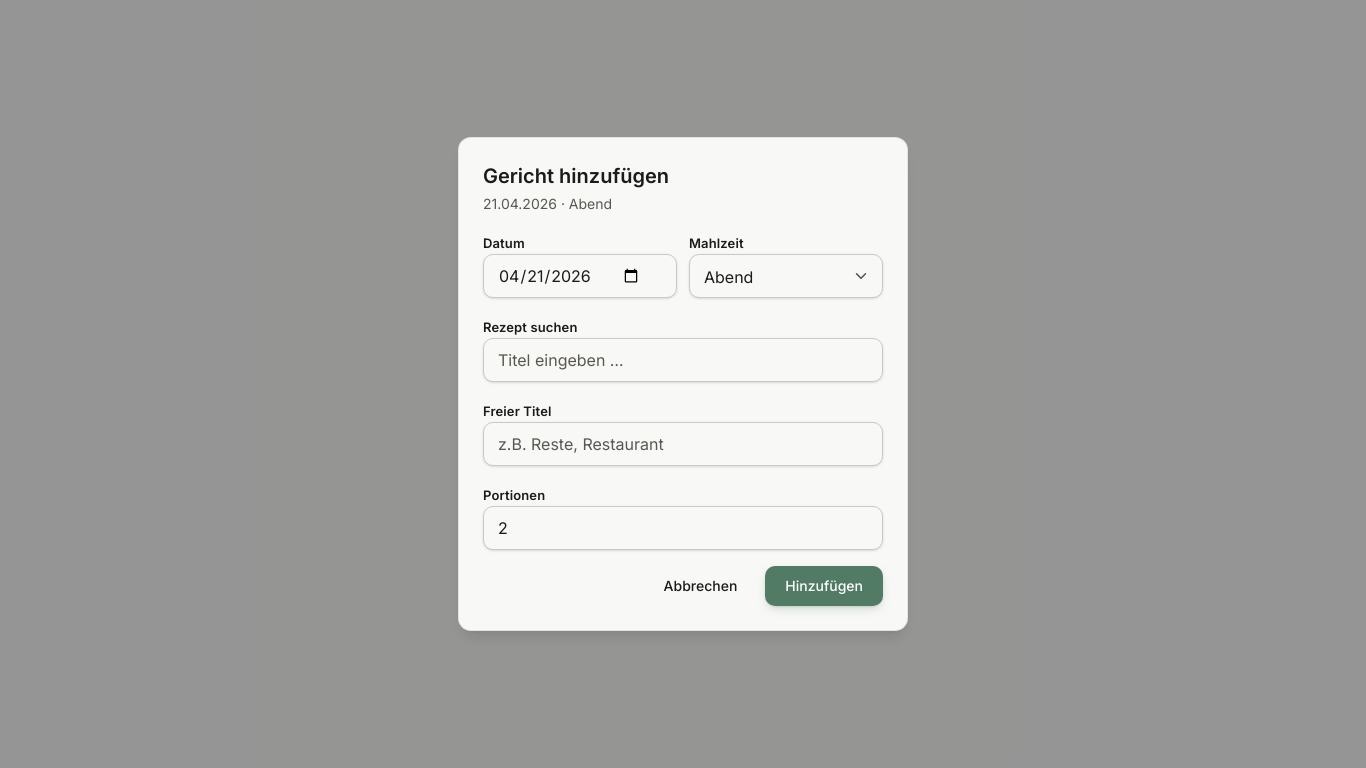
Test: <AddSlotDialog /> › surfaces a generic German fallback on 5xx without leaking raw message
Step 1. Type "Reste" into the field labelled "Freier Titel" → (683, 444), box [483,422,883,466]
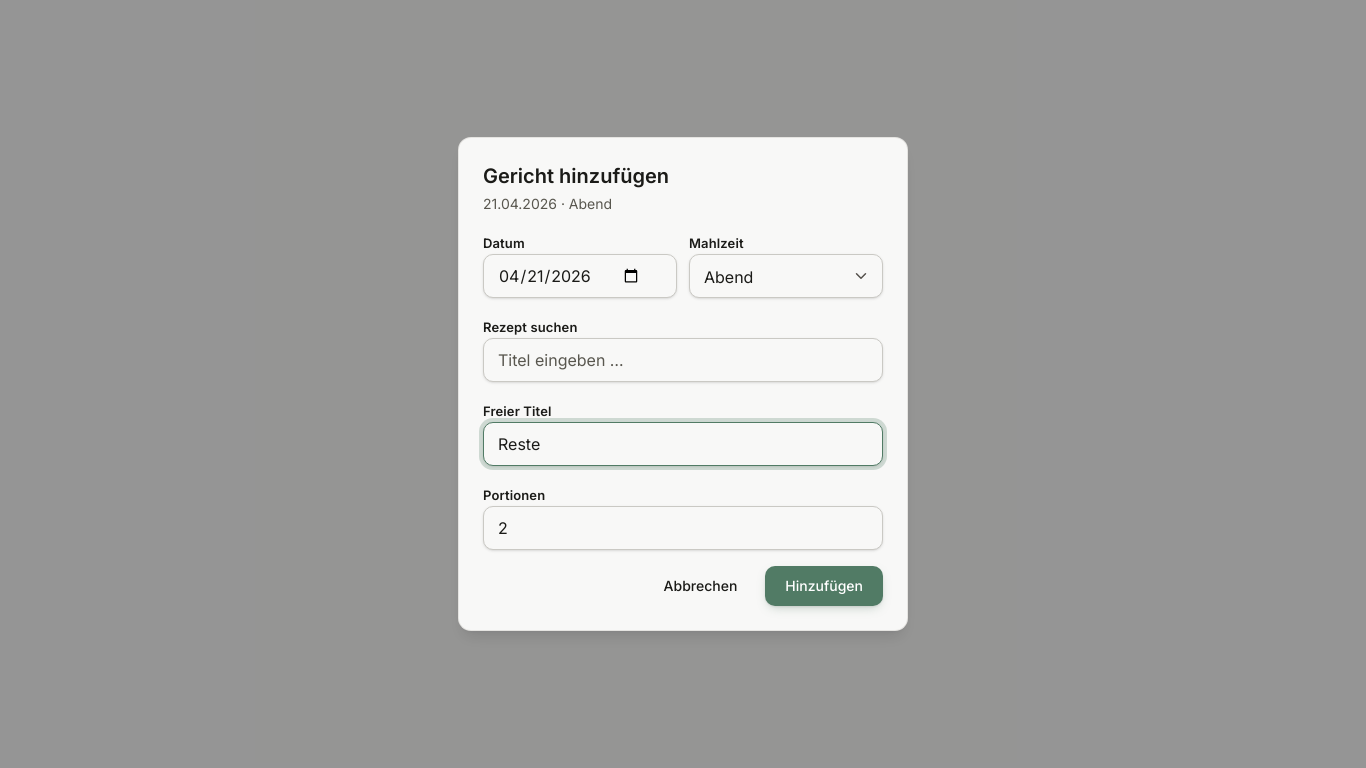
Step 2. Click the button "Hinzufügen" → click(824, 586), box [765,566,883,606]
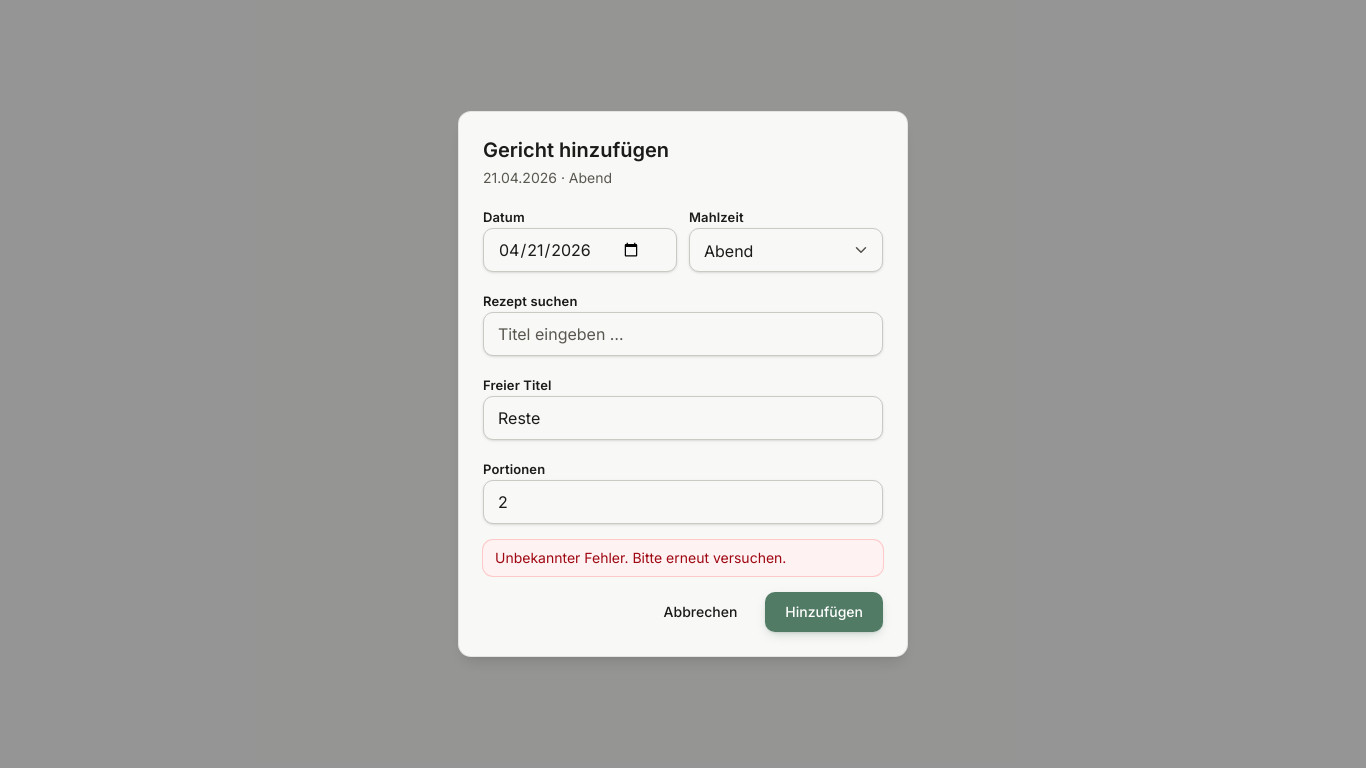
Expected: the message does not show "NullReferenceException", [483,540,883,576]
Now the message shows "Unbekannter Fehler", box [495,549,786,566]
